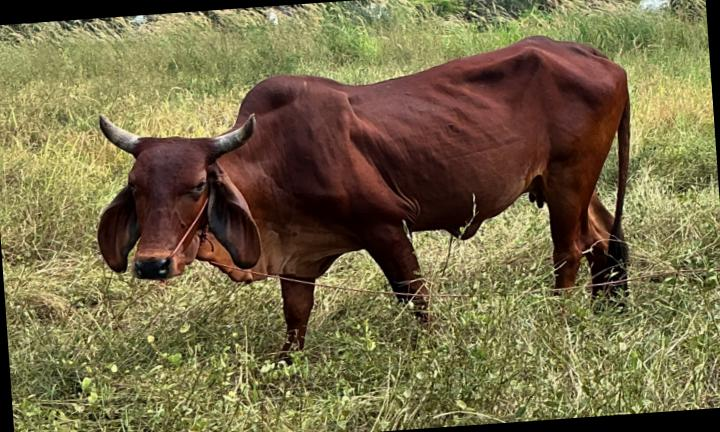Brahman: (99, 36, 630, 301), (281, 280, 314, 349)
